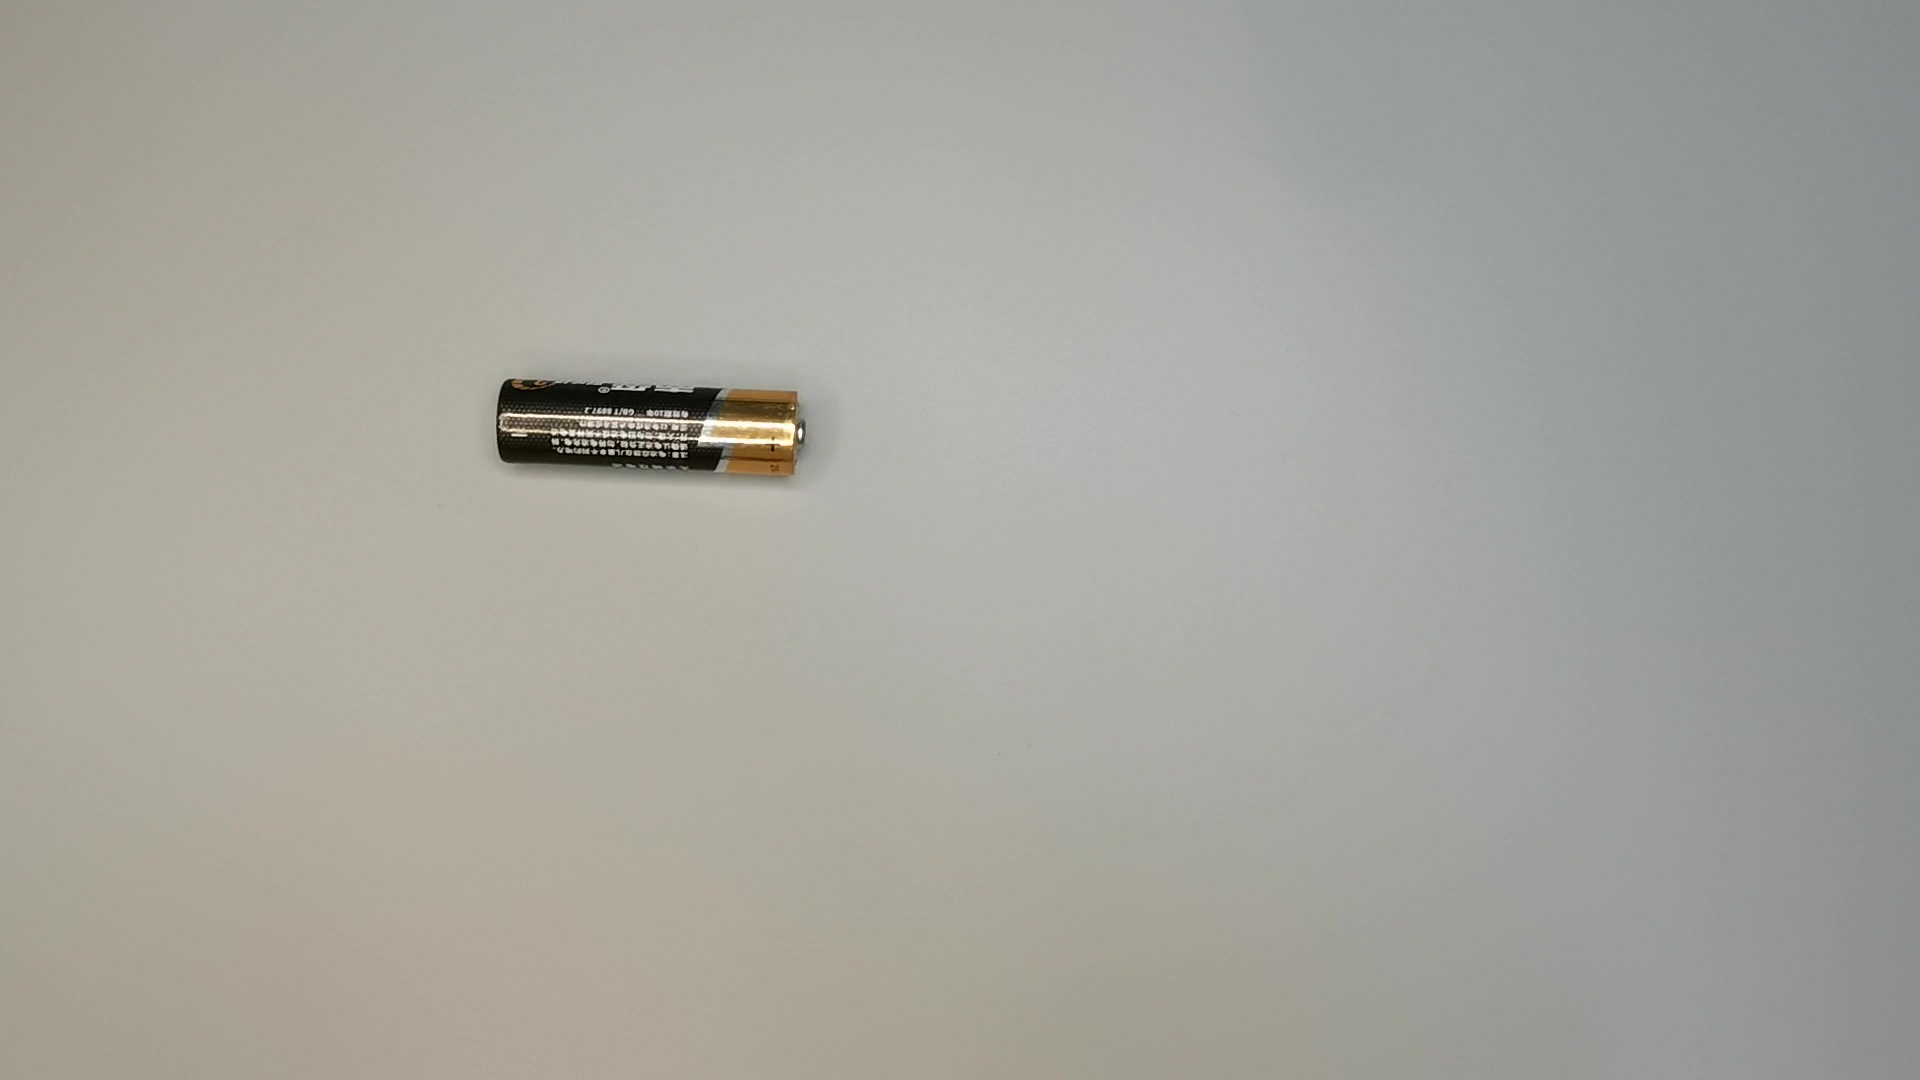battery: (492, 375, 811, 491)
